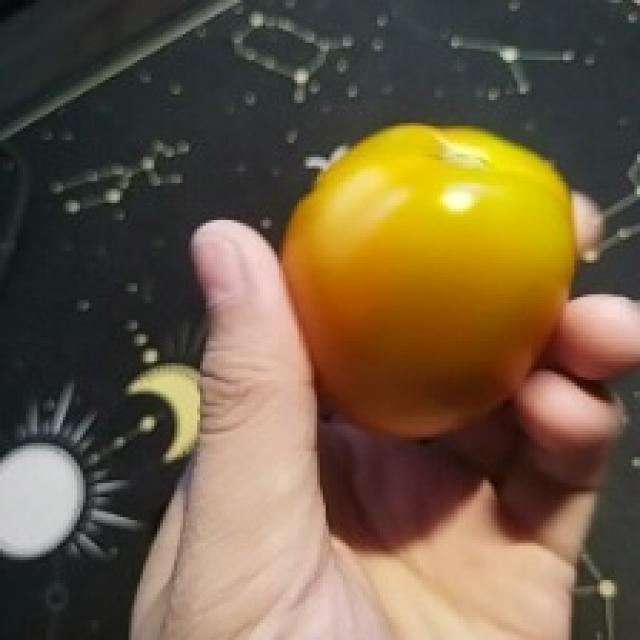Fresh Tomato: (240, 113, 586, 433)
